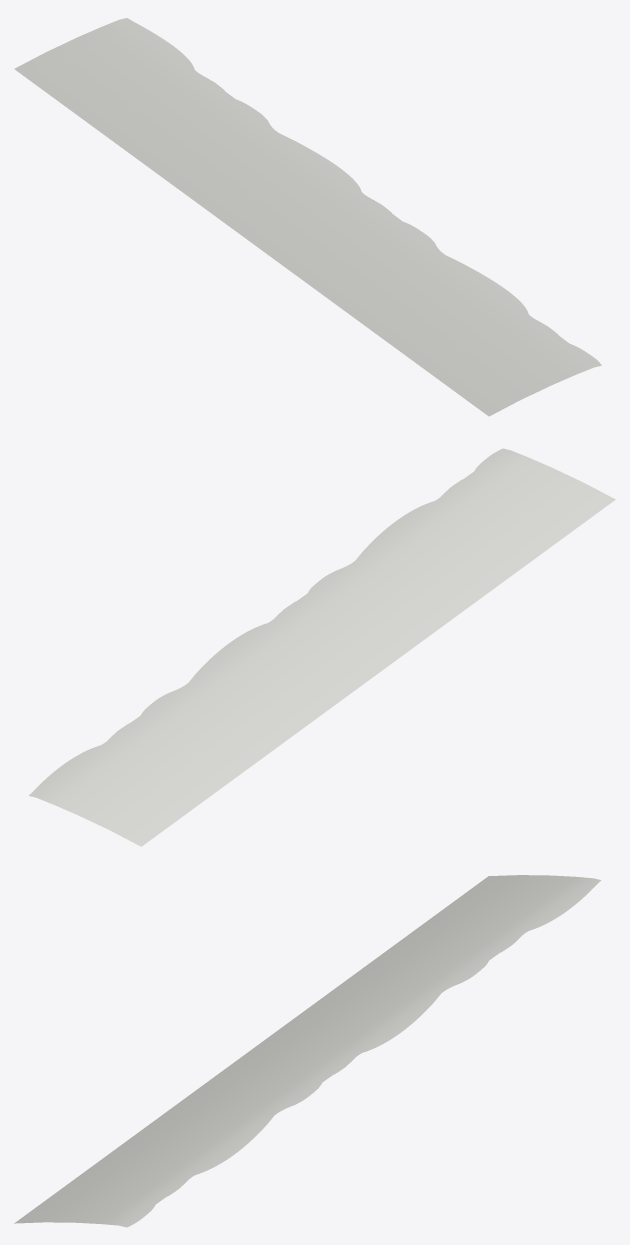
Rendered from Mesh_Adventure_SnowMountain_Ground_04.fbx.
3 renders of one model, top to bottom at view 1: azimuth 30°, elevation 25°; view 2: azimuth 150°, elevation 25°; view 3: azimuth 330°, elevation 25°, orthographic.
Parts seen in each view (by area): view 1: Mesh_Adventure_SnowMountain_Ground_04; view 2: Mesh_Adventure_SnowMountain_Ground_04; view 3: Mesh_Adventure_SnowMountain_Ground_04.
Part boxes in pixels (left/top/right/bottom): Mesh_Adventure_SnowMountain_Ground_04: left=14, top=18, right=601, bottom=416; Mesh_Adventure_SnowMountain_Ground_04: left=28, top=448, right=615, bottom=846; Mesh_Adventure_SnowMountain_Ground_04: left=14, top=875, right=600, bottom=1227.
Bounding box in the file's own units: 543 × 95.79 × 3500.
1 material, 1 textured.
